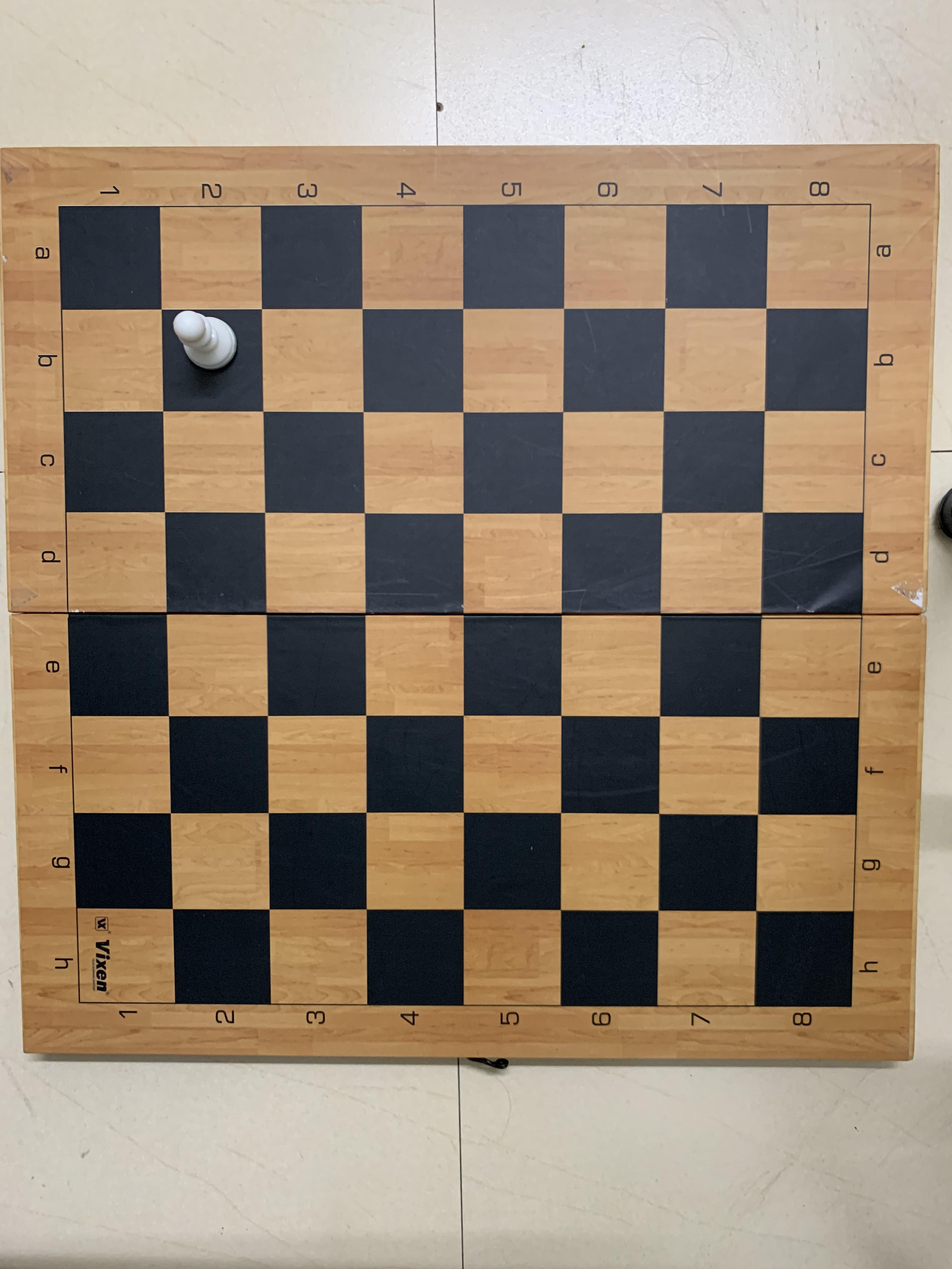white_pawn: (160, 309, 266, 415)
